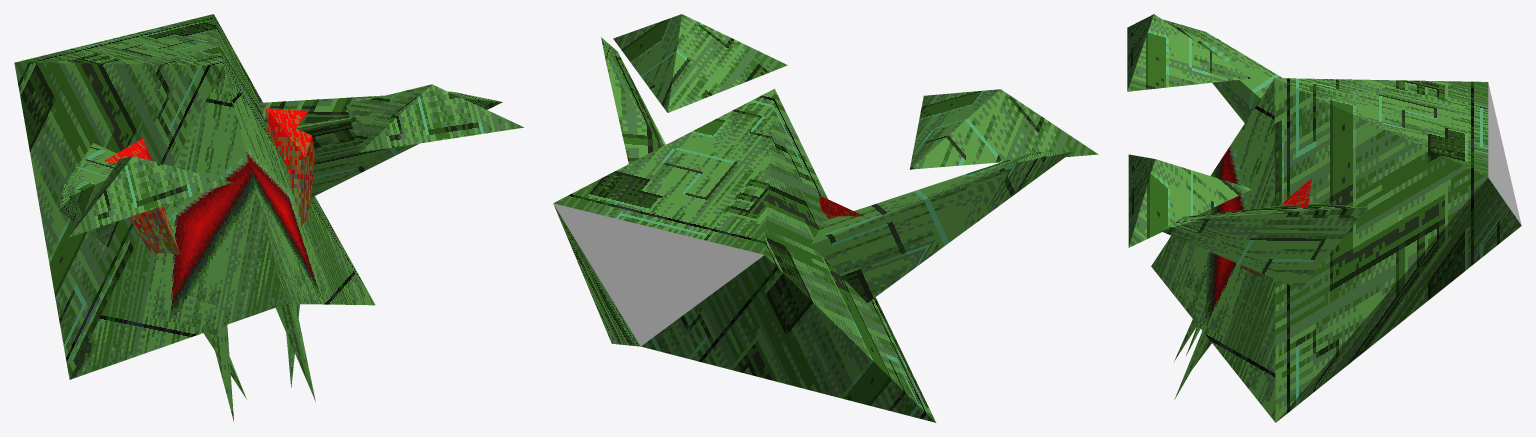
File: model_002_robot_noname.glb
3 renders of one model, left to right at view 1: azimuth 30°, elevation 25°; view 2: azimuth 150°, elevation 25°; view 3: azimuth 270°, elevation 25°, orthographic. The views are drawn at different scales.
Parts seen in each view (by area): view 1: model_002; view 2: model_002; view 3: model_002.
Boxes of the visible parts, <box> form: model_002: <box>14,14,524,421</box>; model_002: <box>553,14,1098,422</box>; model_002: <box>1127,14,1521,422</box>.
Size of the model in its own units: 6.99 by 4.53 by 5.33.
4 materials, 3 textured.
